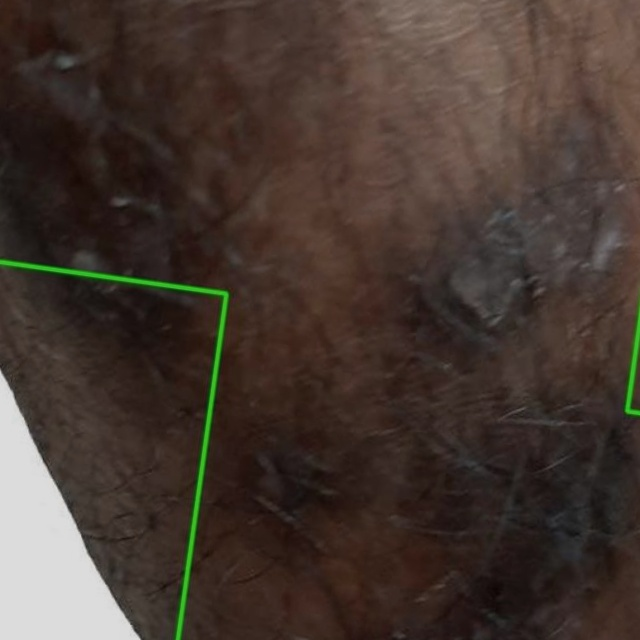Eczema: (0, 261, 226, 639)
